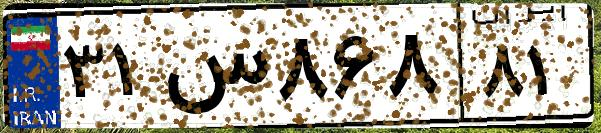1: (525, 38, 570, 115), (110, 28, 158, 98)
3: (57, 26, 110, 100)
6: (330, 28, 385, 110)
8: (270, 28, 330, 110), (385, 28, 445, 110), (475, 38, 525, 113)
س: (158, 20, 270, 120)
